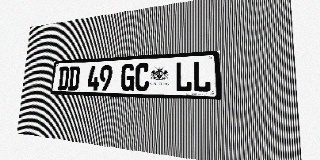4: (87, 65, 100, 91)
9: (99, 65, 113, 91)
C: (135, 63, 150, 92)
D: (58, 66, 70, 90), (68, 66, 80, 90)
G: (120, 64, 135, 91)
L: (193, 60, 211, 93), (175, 61, 192, 92)
